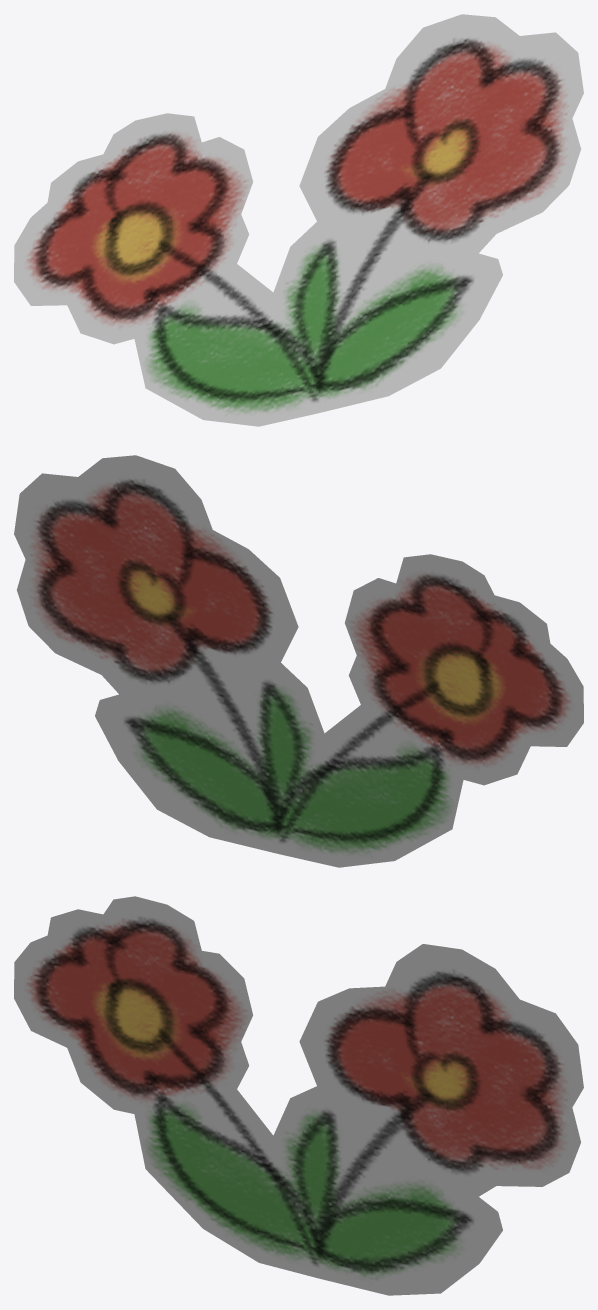
File: BlommaRod.fbx
3 views of the same model, one above another, from view 1: azimuth 30°, elevation 25°; view 2: azimuth 150°, elevation 25°; view 3: azimuth 330°, elevation 25° (orthographic).
Parts seen in each view (by area): view 1: blommarod; view 2: blommarod; view 3: blommarod.
Part boxes in pixels (x1,y1,x2,y2): blommarod: [14, 14, 583, 426]; blommarod: [14, 455, 583, 867]; blommarod: [14, 896, 583, 1295].
Bounding box in the file's own units: 46.55 × 28.42 × 4.66e-06.
1 material, 1 textured.
